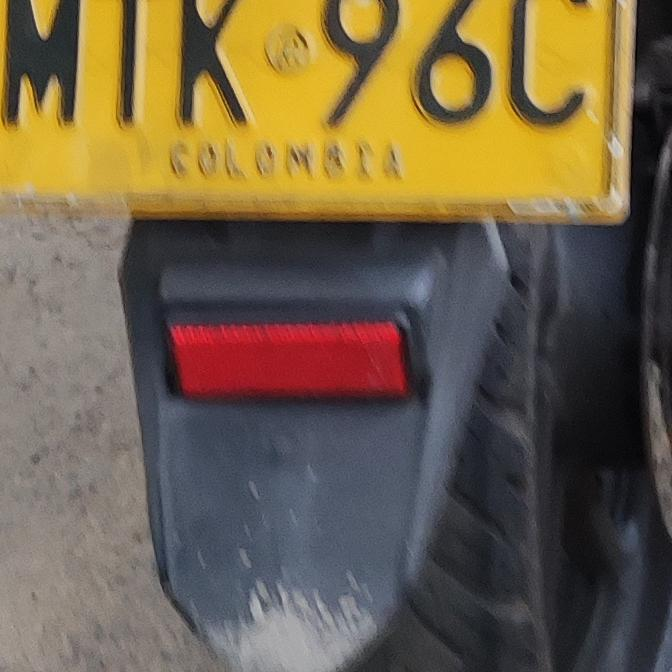plates: (0, 0, 628, 215)
